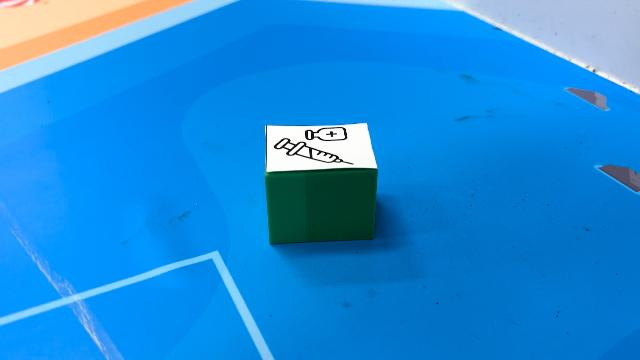syringe: (264, 123, 380, 245)
